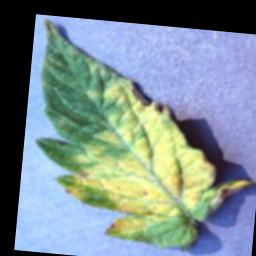Leaf_Mold: (47, 67, 256, 254)
